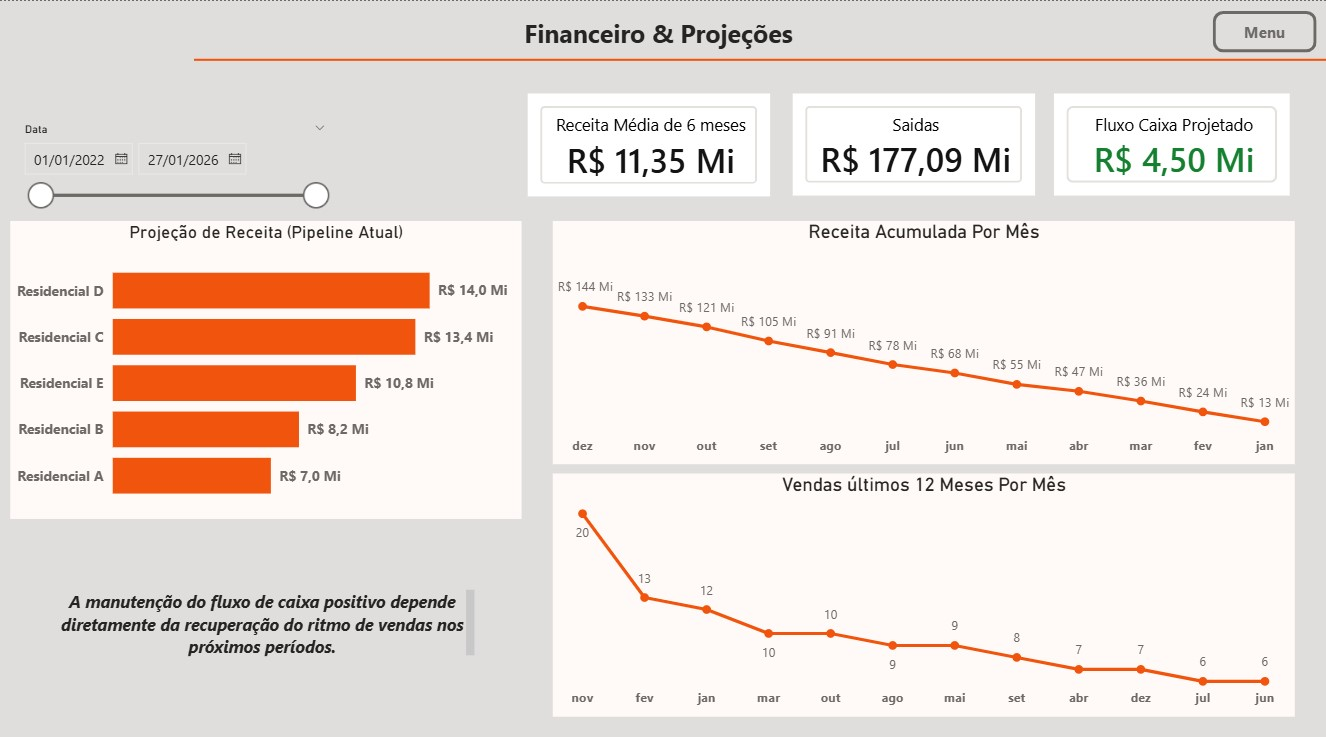

The dashboard page shown, as its layout file describes it:
{"tool":"powerbi","page":{"name":"Financeiro & Projeções","canvas":[1280,720],"ordinal":3},"visuals":[{"type":"barChart","title":"Projeção de Receita (Pipeline Atual)","fields":{"Category":["empreendimentos.nome"],"Y":["Medidas.Projecao_Receita_Pipeline"]},"box":[11.4,211.9,493.2,287],"z":0},{"type":"lineChart","title":"Vendas últimos 12 Meses Por Mês","fields":{"Y":["Medidas.Vendas_ultimos_12Meses"],"Category":["Calendario.Mês"]},"box":[534,455.2,715.5,234.7],"z":1000},{"type":"slicer","fields":{"Values":["Calendario.Date"]},"box":[11.5,112.6,314.8,90.4],"z":2000},{"type":"cardVisual","fields":{"Data":["Medidas.Receita_Media_6M"]},"box":[504.5,84.2,243.8,109.1],"z":3000},{"type":"cardVisual","fields":{"Data":["Medidas.Saidas"]},"box":[759.9,84.7,243.9,108.9],"z":4000},{"type":"cardVisual","fields":{"Data":["Medidas.Fluxo_Caixa_Projetado"]},"box":[1011.9,84.7,237.9,108.9],"z":5000},{"type":"lineChart","title":"Receita Acumulada Por Mês","fields":{"Y":["Medidas.Receita_Acumulada"],"Category":["Calendario.Mês"]},"box":[534,211.9,715.5,234.7],"z":6000},{"type":"shape","box":[188.2,43.7,1091.8,26.6],"z":8000},{"type":"actionButton","box":[1169.6,9.8,100.2,39.9],"z":9000},{"type":"textbox","box":[52.3,562.6,411.5,74.1],"z":10000},{"type":"textbox","box":[501.7,9.5,277.5,43.7],"z":11000}]}

Visuals, with their boxes in screenshot pixels (x1, y1, x2, y2), scaled from the page's 1280x720 canvas onto the 1326x737 screenshot:
"Projeção de Receita (Pipeline Atual)" barChart: rect(12, 217, 523, 511)
"Vendas últimos 12 Meses Por Mês" lineChart: rect(553, 466, 1294, 706)
slicer - Calendario.Date: rect(12, 115, 338, 208)
cardVisual - Medidas.Receita_Media_6M: rect(523, 86, 775, 198)
cardVisual - Medidas.Saidas: rect(787, 87, 1040, 198)
cardVisual - Medidas.Fluxo_Caixa_Projetado: rect(1048, 87, 1295, 198)
"Receita Acumulada Por Mês" lineChart: rect(553, 217, 1294, 457)
shape: rect(195, 45, 1325, 72)
actionButton: rect(1212, 10, 1315, 51)
textbox: rect(54, 576, 480, 652)
textbox: rect(520, 10, 807, 54)
